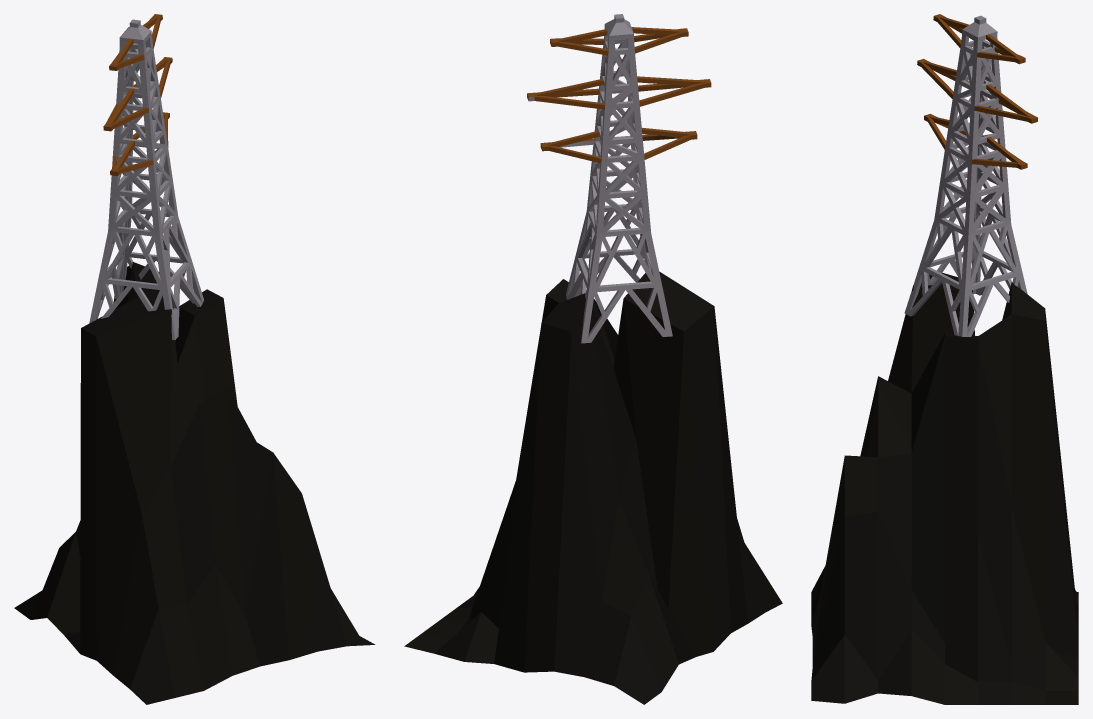
File: posteLuz.fbx
3 renders of one model, left to right at view 1: azimuth 30°, elevation 25°; view 2: azimuth 150°, elevation 25°; view 3: azimuth 270°, elevation 25°, orthographic. The views are drawn at different scales.
Visible parts, largest first — view 1: Plane.001, 17492_Electricity_Transmission_Tower_v1, 17492_Electricity_Transmission_Tower_v1.001; view 2: Plane.001, 17492_Electricity_Transmission_Tower_v1, 17492_Electricity_Transmission_Tower_v1.001; view 3: Plane.001, 17492_Electricity_Transmission_Tower_v1, 17492_Electricity_Transmission_Tower_v1.001.
Boxes of the visible parts, left/top/right/bottom form: Plane.001: left=14, top=262, right=375, bottom=704; 17492_Electricity_Transmission_Tower_v1: left=89, top=19, right=203, bottom=340; 17492_Electricity_Transmission_Tower_v1.001: left=103, top=14, right=172, bottom=175; Plane.001: left=404, top=271, right=782, bottom=704; 17492_Electricity_Transmission_Tower_v1: left=528, top=14, right=672, bottom=343; 17492_Electricity_Transmission_Tower_v1.001: left=527, top=27, right=711, bottom=163; Plane.001: left=811, top=273, right=1078, bottom=704; 17492_Electricity_Transmission_Tower_v1: left=904, top=15, right=1027, bottom=336; 17492_Electricity_Transmission_Tower_v1.001: left=917, top=14, right=1037, bottom=169.
Bounding box in the file's own units: 320 × 807 × 320.
